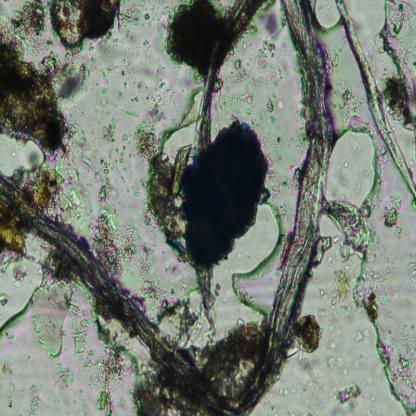Air bubble: (176, 200, 284, 343), (322, 128, 379, 213), (0, 248, 50, 327), (0, 135, 46, 177), (315, 0, 342, 35)
Background material: (0, 41, 79, 157), (199, 311, 267, 402), (142, 142, 191, 255), (375, 0, 416, 128), (90, 309, 138, 416), (50, 121, 96, 228), (96, 176, 141, 279), (167, 0, 221, 78), (48, 0, 121, 55), (373, 326, 416, 416), (130, 363, 203, 416), (137, 244, 181, 325), (323, 198, 380, 258), (31, 278, 69, 364), (158, 292, 212, 347), (13, 161, 66, 215), (4, 0, 50, 53), (43, 50, 89, 101), (68, 300, 99, 371), (354, 266, 390, 323), (153, 117, 198, 162), (0, 206, 30, 272), (331, 77, 367, 129), (264, 131, 287, 201), (254, 37, 284, 88), (44, 247, 78, 287), (290, 314, 323, 354), (330, 268, 354, 317), (134, 123, 163, 163), (382, 194, 404, 241), (118, 0, 147, 31), (301, 382, 327, 416), (50, 359, 75, 394), (399, 256, 414, 312), (214, 78, 234, 118), (100, 144, 127, 172), (88, 55, 113, 84), (332, 382, 362, 406), (93, 87, 116, 116), (329, 317, 349, 350), (262, 9, 283, 40), (280, 164, 301, 194), (127, 62, 158, 82), (96, 116, 118, 144), (297, 352, 317, 382), (26, 382, 43, 416), (322, 44, 341, 74), (148, 94, 166, 124), (374, 146, 388, 182), (154, 76, 176, 98), (10, 262, 27, 289), (232, 59, 251, 83), (294, 124, 310, 152), (237, 83, 255, 107), (5, 381, 18, 409), (403, 223, 416, 250), (157, 13, 169, 40), (265, 98, 276, 126), (0, 358, 15, 377), (250, 108, 265, 126), (326, 355, 346, 368), (408, 252, 416, 284), (237, 40, 252, 56), (355, 328, 371, 342), (0, 293, 12, 309), (331, 404, 347, 416), (124, 108, 140, 118), (390, 276, 399, 293), (143, 10, 152, 26), (346, 399, 358, 411), (92, 170, 104, 181), (214, 282, 222, 298), (366, 407, 380, 416), (290, 383, 301, 394), (136, 78, 146, 90), (380, 254, 392, 264), (278, 386, 288, 398), (277, 97, 285, 111), (270, 403, 278, 416), (317, 307, 327, 317), (142, 39, 151, 50), (401, 251, 408, 263), (319, 288, 327, 298), (342, 365, 349, 376), (243, 108, 252, 116), (327, 255, 333, 267), (332, 235, 340, 244), (132, 95, 139, 105), (116, 89, 122, 100), (123, 133, 129, 142), (370, 394, 376, 402), (286, 411, 295, 416), (272, 93, 276, 99)
Cellulose filter fibre: (0, 4, 331, 416), (336, 1, 416, 201), (194, 0, 262, 155)
Fragment: (178, 118, 266, 272)
